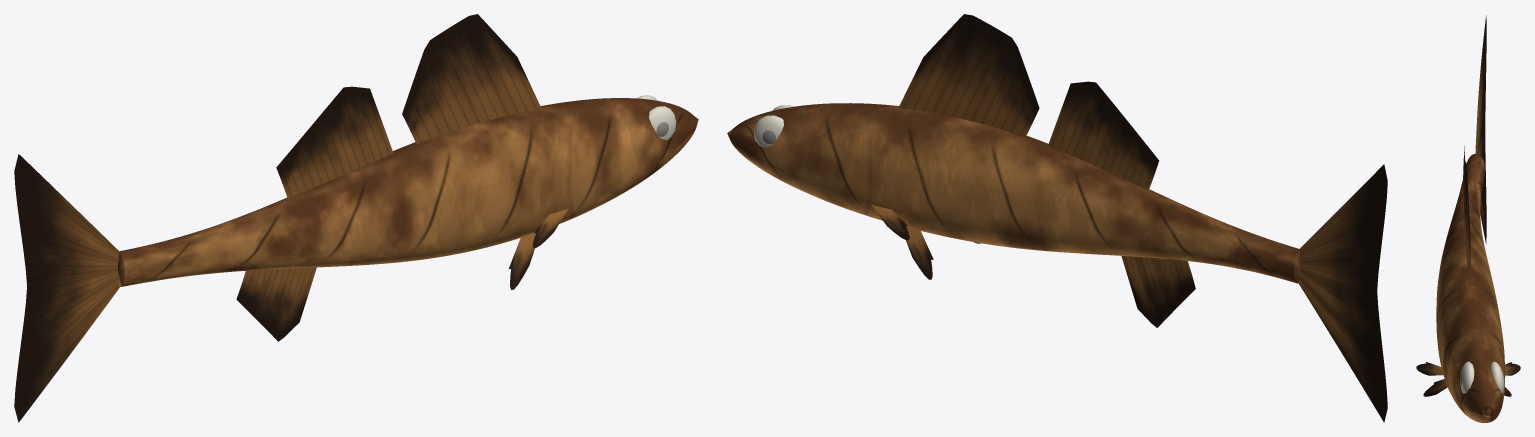
The model's file is fish_zander_cooked.gltf.
The picture shows the model from 3 angles, left to right: view 1: azimuth 30°, elevation 25°; view 2: azimuth 150°, elevation 25°; view 3: azimuth 270°, elevation 25°; orthographic projection. The views are drawn at different scales.
Visible parts, largest first — view 1: fish_zander_cooked; view 2: fish_zander_cooked; view 3: fish_zander_cooked.
Boxes of the visible parts, x1,y1,x2,y2 form: fish_zander_cooked: [14, 14, 698, 422]; fish_zander_cooked: [727, 14, 1387, 422]; fish_zander_cooked: [1416, 15, 1520, 422].
Size of the model in its own units: 0.5416 by 0.2327 by 0.0832.
7 materials, 5 textured.
